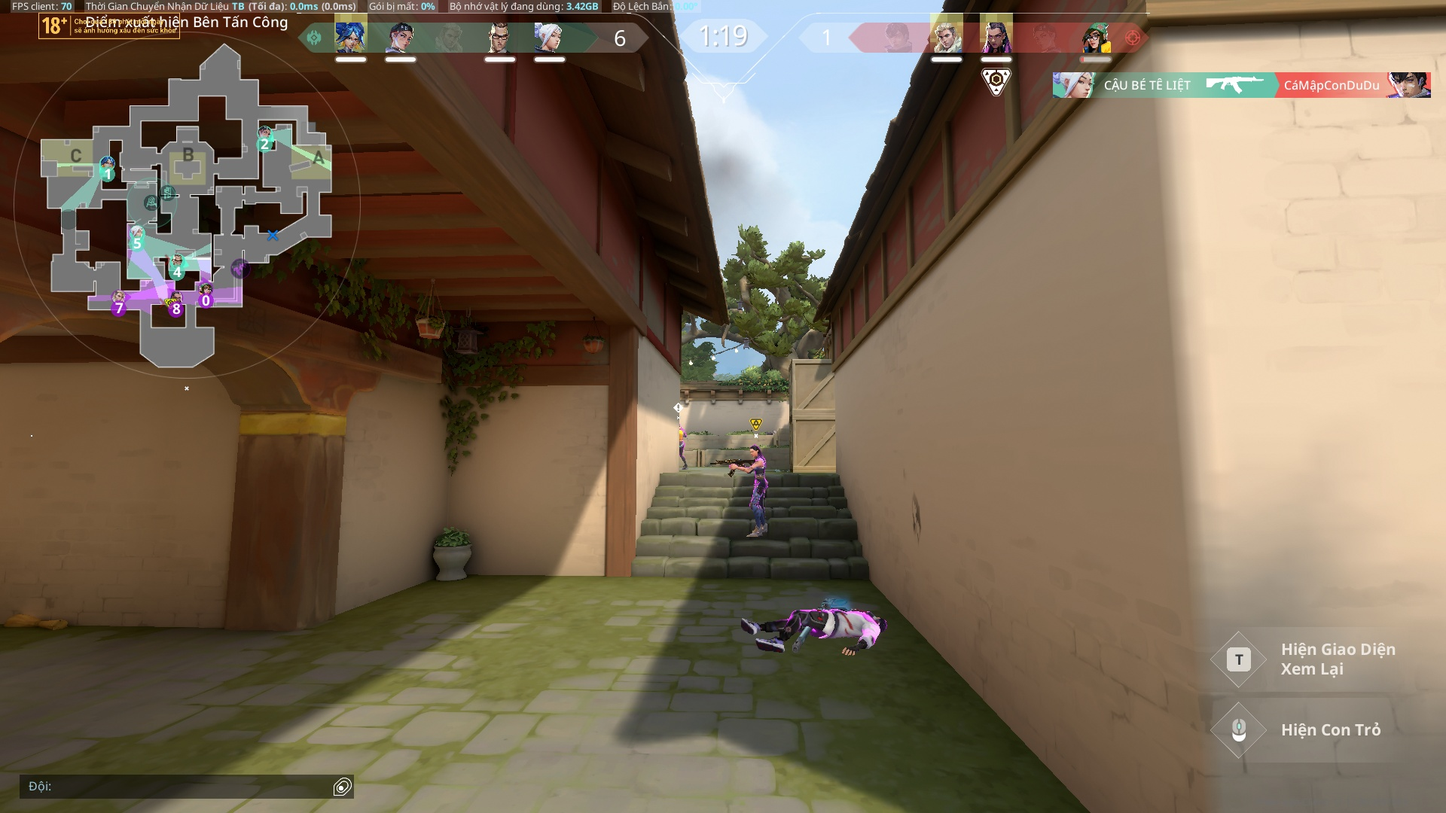body: (752, 458, 768, 477), (679, 428, 685, 441)
head: (747, 445, 762, 458)
